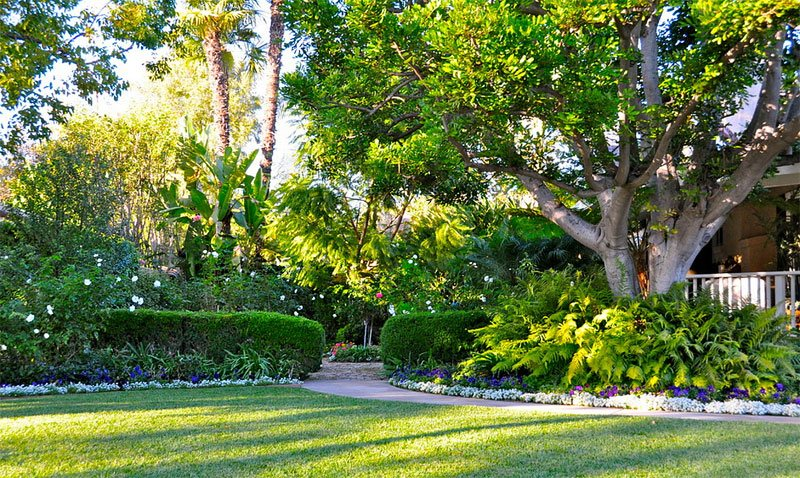bush: (63, 301, 328, 371), (380, 314, 500, 370)
tree: (291, 7, 800, 300)
